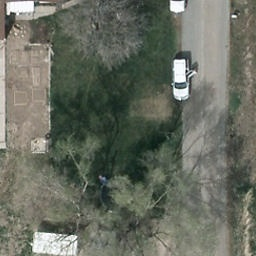car: (173, 59, 191, 103), (169, 0, 186, 15)
